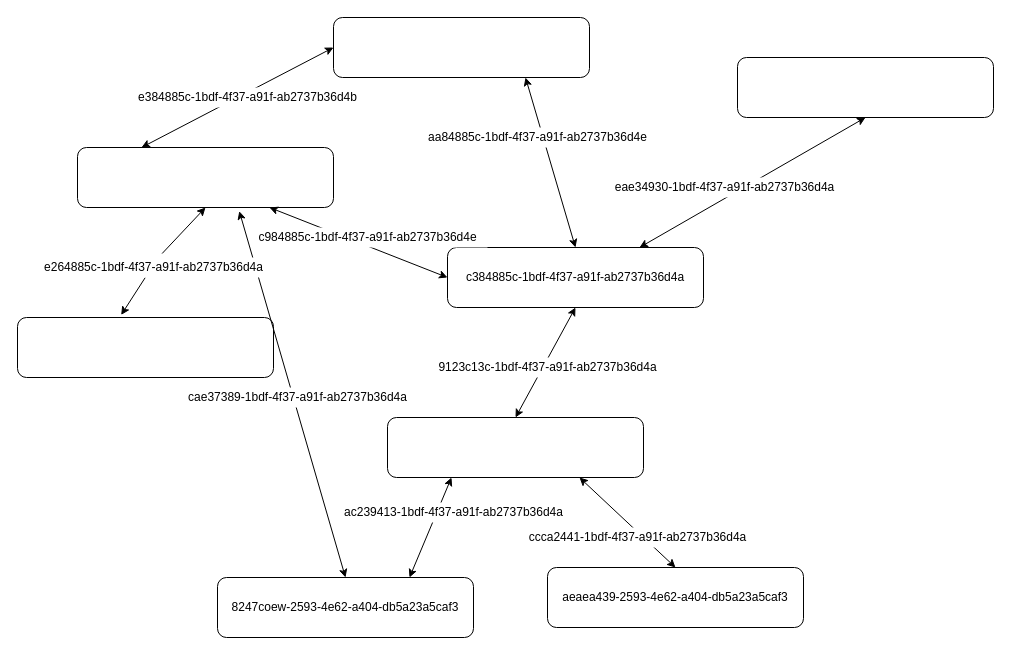
This 1011x655 diagram has some shape labels left out. The shapes that lost their labels are listed below. From the top down, each one's centre as x and y in pixels, then its label:
point (461, 47): e6ec99de-822e-4b20-94be-77ec896a8096
point (865, 87): ccecec23-1bdf-4f37-a91f-ab2737b36d4a
point (205, 177): 32c3ce3d-2593-4e62-a404-db5a23a5caf3
point (145, 347): aaaa3920-1bdf-4f37-a91f-ab2737b36d4a
point (515, 447): eeee3894-2593-4e62-a404-db5a23a5caf3
